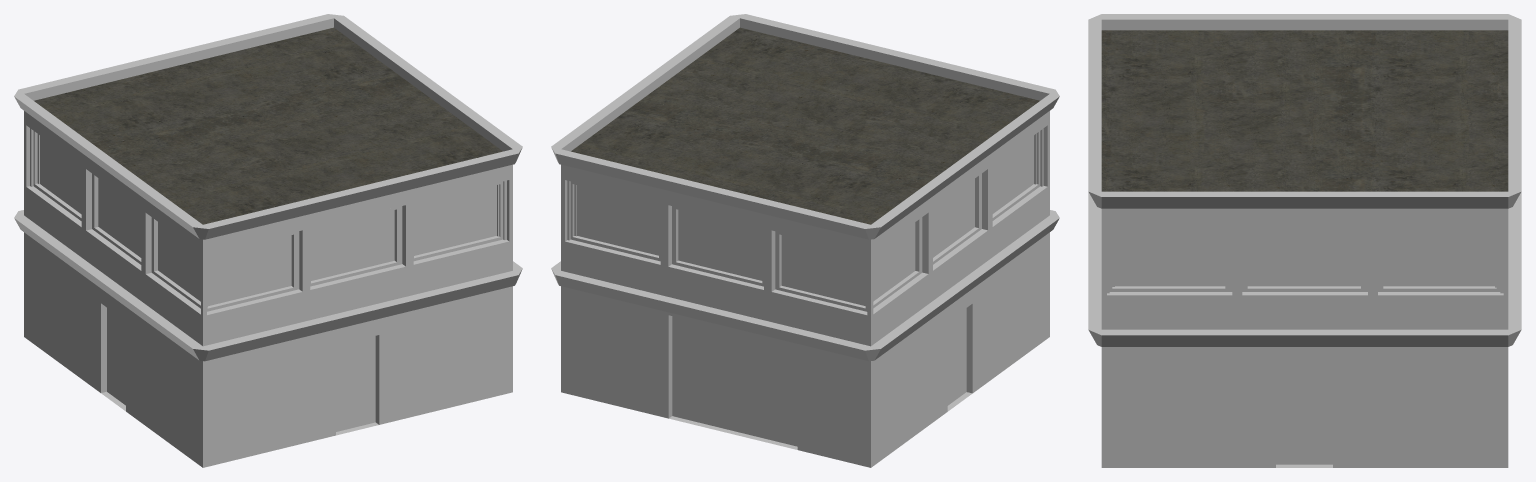
File: DT_Building_Type_09_09.fbx
3 renders of one model, left to right at view 1: azimuth 30°, elevation 25°; view 2: azimuth 150°, elevation 25°; view 3: azimuth 270°, elevation 25°, orthographic. The views are drawn at different scales.
Visible parts, largest first — view 1: DT_Building_Type_09_09; view 2: DT_Building_Type_09_09; view 3: DT_Building_Type_09_09.
Boxes of the visible parts, bbox=[...] form: DT_Building_Type_09_09: bbox=[14, 14, 522, 467]; DT_Building_Type_09_09: bbox=[551, 14, 1059, 467]; DT_Building_Type_09_09: bbox=[1088, 14, 1521, 467].
Size of the model in its own units: 818 by 576 by 818.
